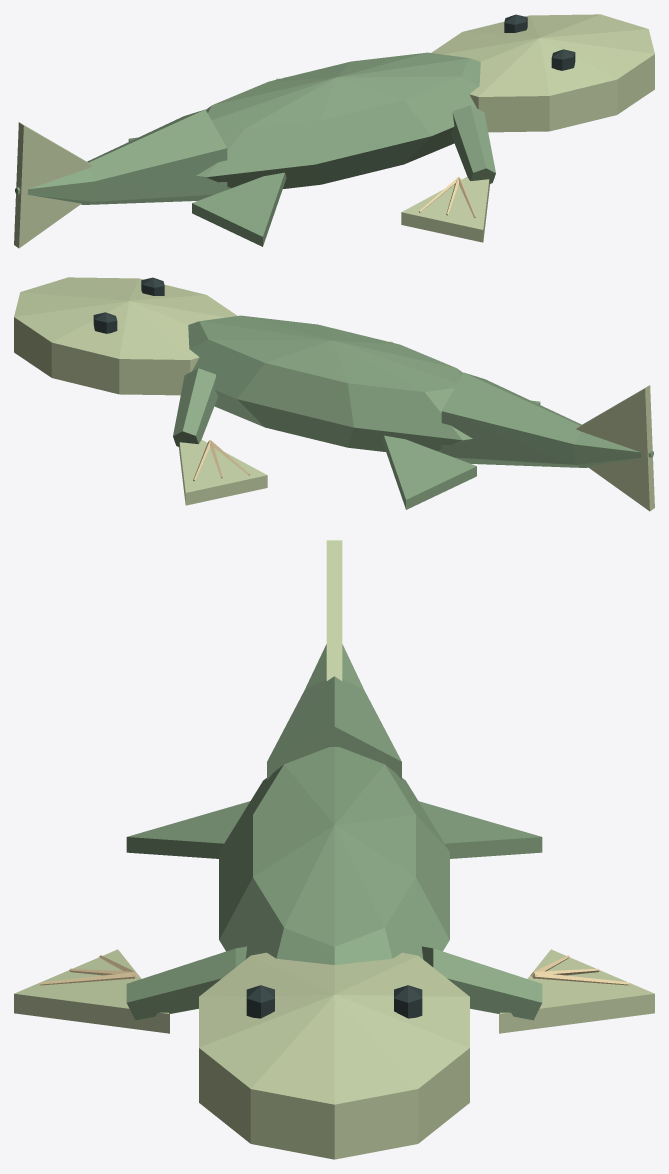
Rendered from tiktaalik.cc731511cd27.glb.
3 views of the same model, one above another, from view 1: azimuth 30°, elevation 25°; view 2: azimuth 150°, elevation 25°; view 3: azimuth 270°, elevation 25° (orthographic). The views are drawn at different scales.
Parts seen in each view (by area): view 1: tiktaalik; view 2: tiktaalik; view 3: tiktaalik.
Boxes of the visible parts, x1,y1,x2,y2 form: tiktaalik: (14,14,654,248); tiktaalik: (14,277,654,511); tiktaalik: (14,540,654,1159).
Size of the model in its own units: 1 by 0.1972 by 0.5666.
